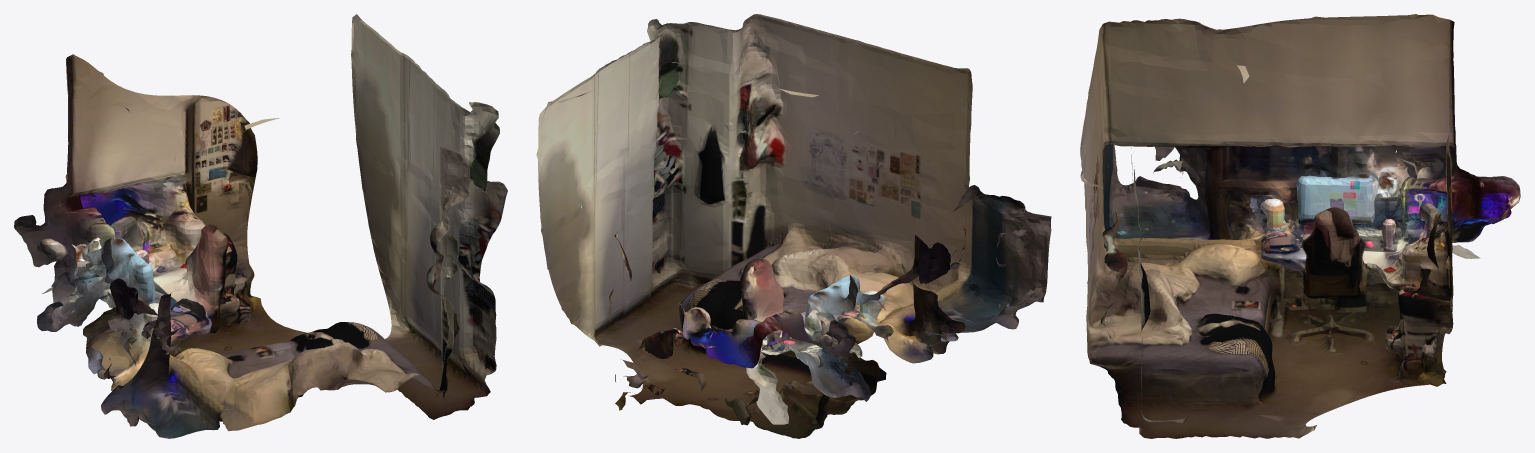
File: room(1).glb
3 views of the same model, side by side, from view 1: azimuth 30°, elevation 25°; view 2: azimuth 150°, elevation 25°; view 3: azimuth 270°, elevation 25° (orthographic). The views are drawn at different scales.
Bounding box in the file's own units: 3.75 × 2.71 × 3.68.
Materials: 2 (2 with a texture image).
